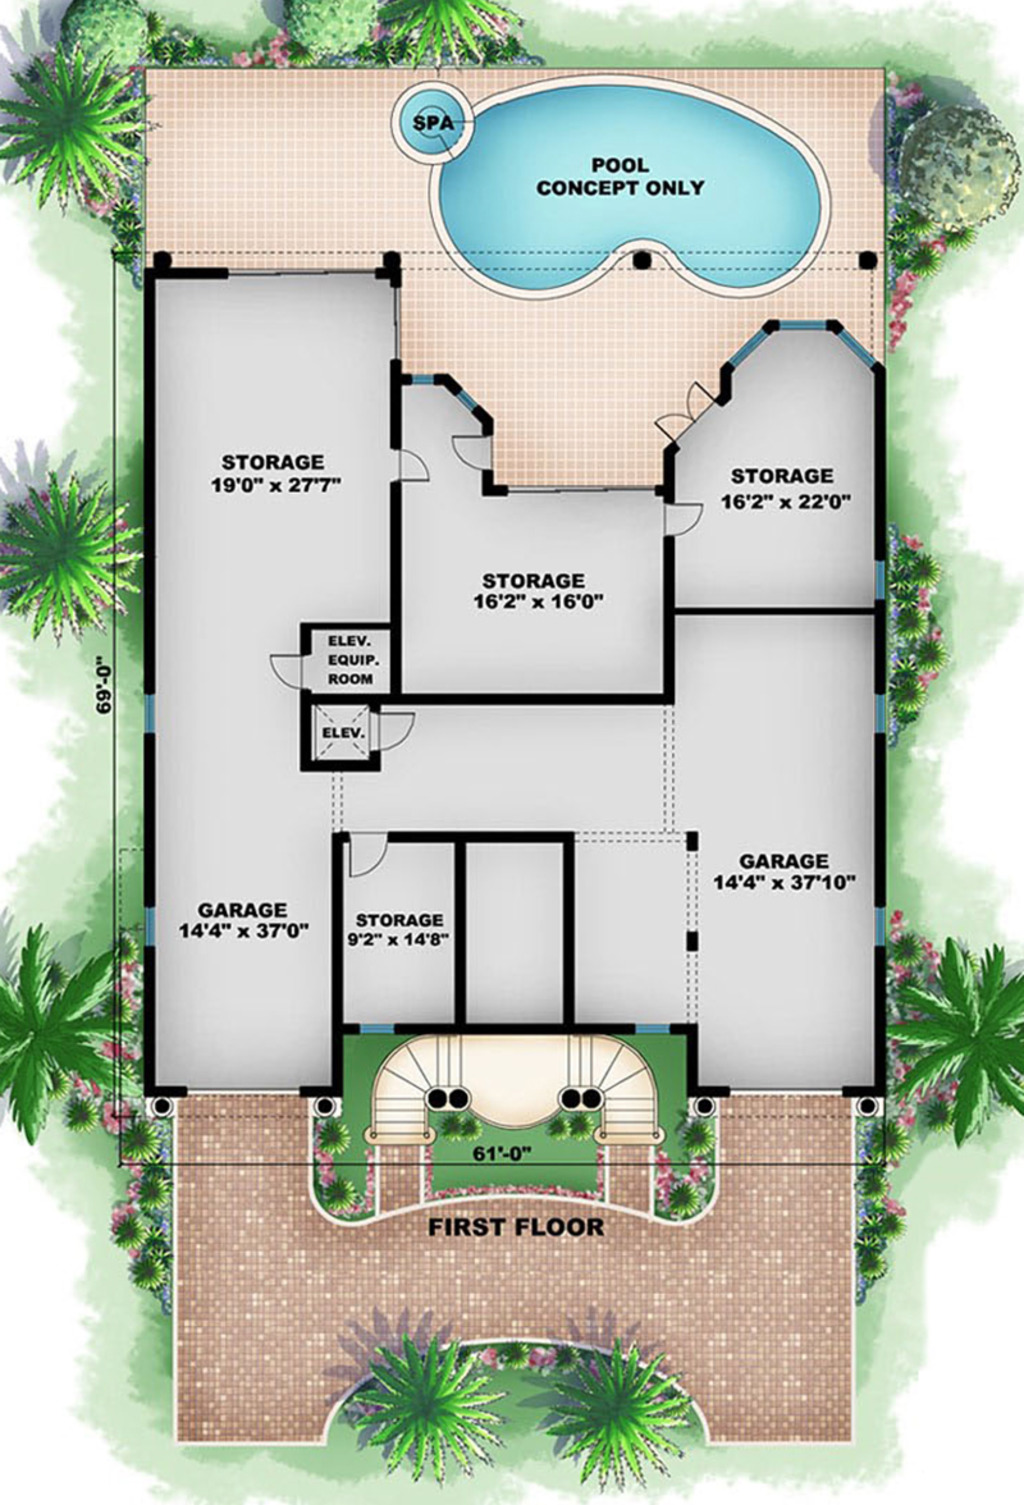door: (655, 381, 721, 443), (369, 705, 424, 756), (395, 435, 434, 497), (345, 827, 389, 879), (658, 493, 701, 545), (448, 427, 491, 471), (267, 648, 309, 685)
stairs: (363, 1034, 671, 1153)
windows: (750, 310, 837, 342)
